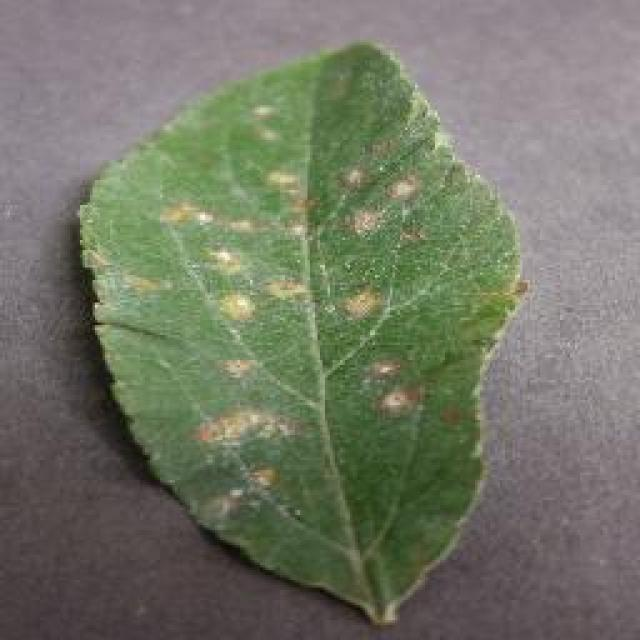apple scab disease: (75, 35, 527, 625)
